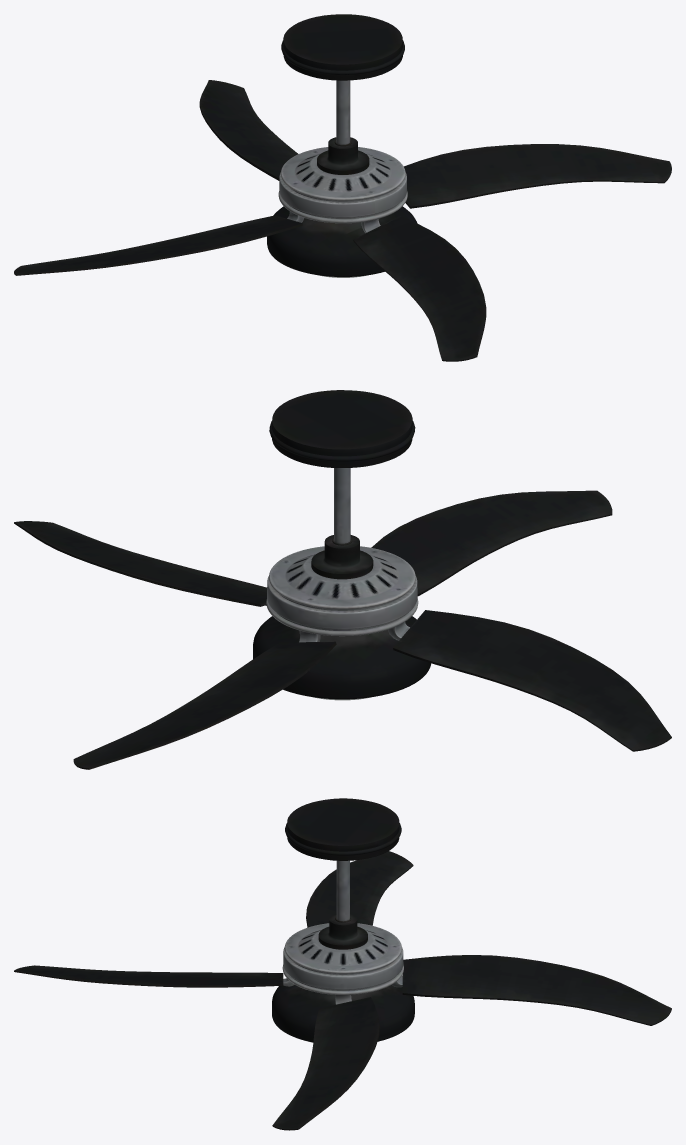
The model's file is ceiling_fan.glb.
3 renders of one model, top to bottom at view 1: azimuth 30°, elevation 25°; view 2: azimuth 150°, elevation 25°; view 3: azimuth 270°, elevation 25°, orthographic. The views are drawn at different scales.
Parts seen in each view (by area): view 1: ceiling_fan_blades, ceiling_fan; view 2: ceiling_fan_blades, ceiling_fan; view 3: ceiling_fan_blades, ceiling_fan.
Part boxes in pixels (x1,y1,x2,y2): ceiling_fan_blades: (14,80,671,361); ceiling_fan: (267,14,417,277); ceiling_fan_blades: (14,490,671,769); ceiling_fan: (253,390,431,700); ceiling_fan_blades: (14,851,671,1130); ceiling_fan: (272,798,414,1042).
Bounding box in the file's own units: 1.46 × 0.5163 × 1.46.
1 material, 1 textured.
